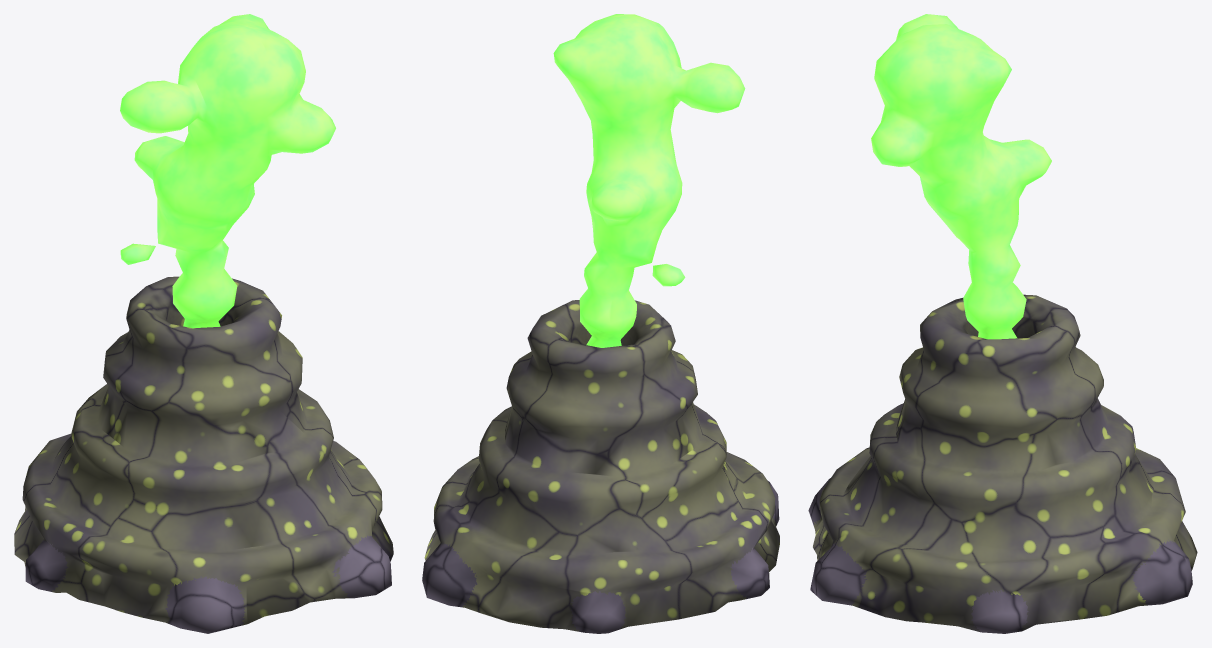
File: geyser_toxico.fbx
3 views of the same model, side by side, from view 1: azimuth 30°, elevation 25°; view 2: azimuth 150°, elevation 25°; view 3: azimuth 270°, elevation 25° (orthographic). The views are drawn at different scales.
Visible parts, largest first — view 1: geiser, vapor_neon; view 2: geiser, vapor_neon; view 3: geiser, vapor_neon.
Part boxes in pixels (x1=…): geiser: x1=14, y1=276, x2=393, y2=633; vapor_neon: x1=120, y1=14, x2=335, y2=328; geiser: x1=422, y1=300, x2=779, y2=633; vapor_neon: x1=553, y1=14, x2=745, y2=347; geiser: x1=808, y1=294, x2=1197, y2=633; vapor_neon: x1=871, y1=14, x2=1051, y2=339.
Size of the model in its own units: 1.99 by 3 by 2.01.
1 material, 1 textured.
